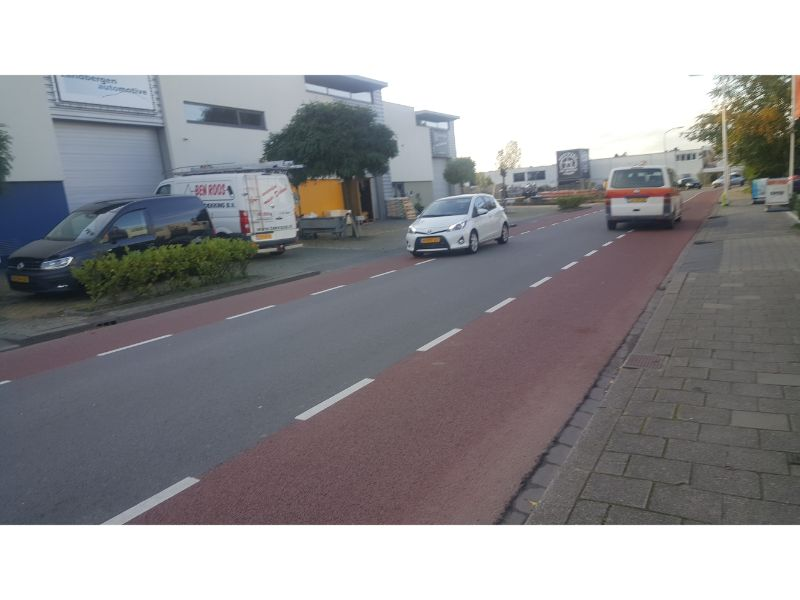kenteken: (420, 235, 440, 244)
